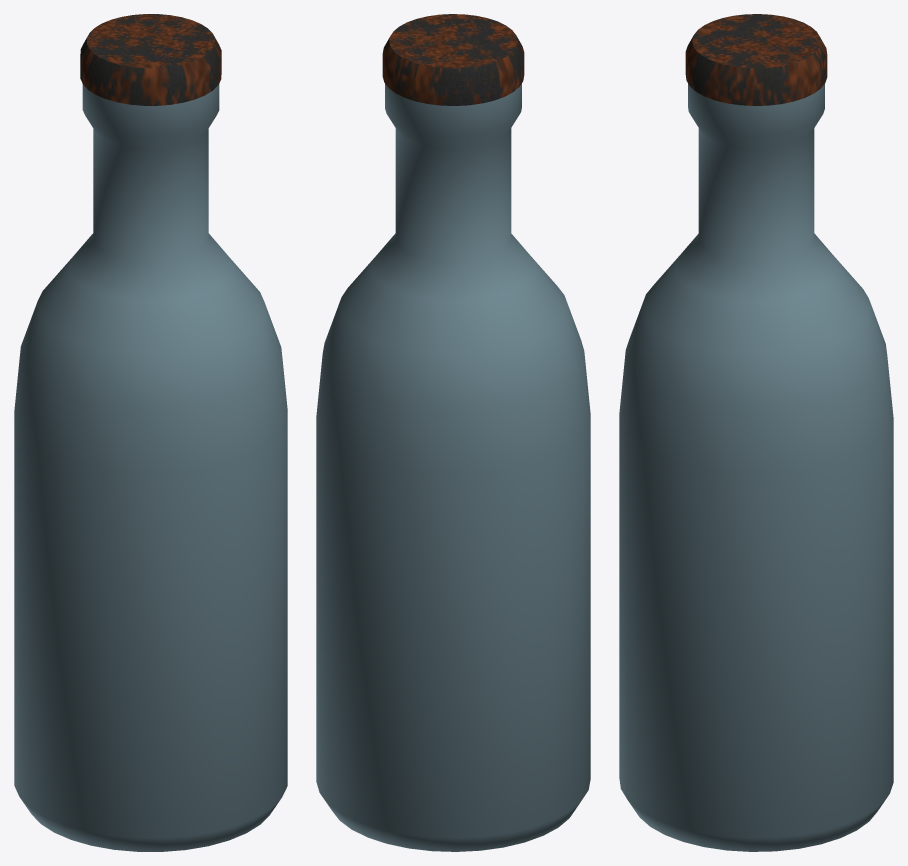
File: SM_Bottle_d283cddf6b.fbx
3 renders of one model, left to right at view 1: azimuth 30°, elevation 25°; view 2: azimuth 150°, elevation 25°; view 3: azimuth 270°, elevation 25°, orthographic.
Parts seen in each view (by area): view 1: SM_Bottle_d283cddf6b; view 2: SM_Bottle_d283cddf6b; view 3: SM_Bottle_d283cddf6b.
Boxes of the visible parts, bbox=[...] form: SM_Bottle_d283cddf6b: bbox=[14, 14, 287, 851]; SM_Bottle_d283cddf6b: bbox=[316, 14, 590, 851]; SM_Bottle_d283cddf6b: bbox=[619, 14, 893, 851].
Size of what is drawn, in the model's own units: 12.79 by 12.79 by 39.4.
2 materials, 1 textured.
